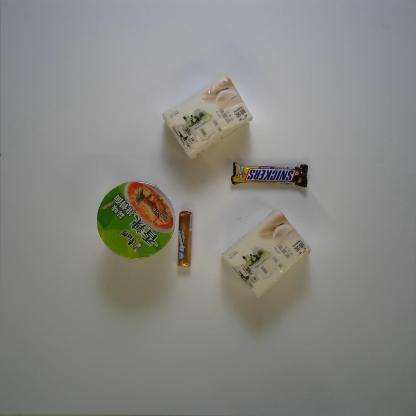Candy: (177, 210, 193, 267)
Chocolate: (230, 162, 309, 188)
Instant Noodles: (96, 180, 176, 260)
Tissue: (221, 208, 312, 299), (161, 73, 253, 160)
